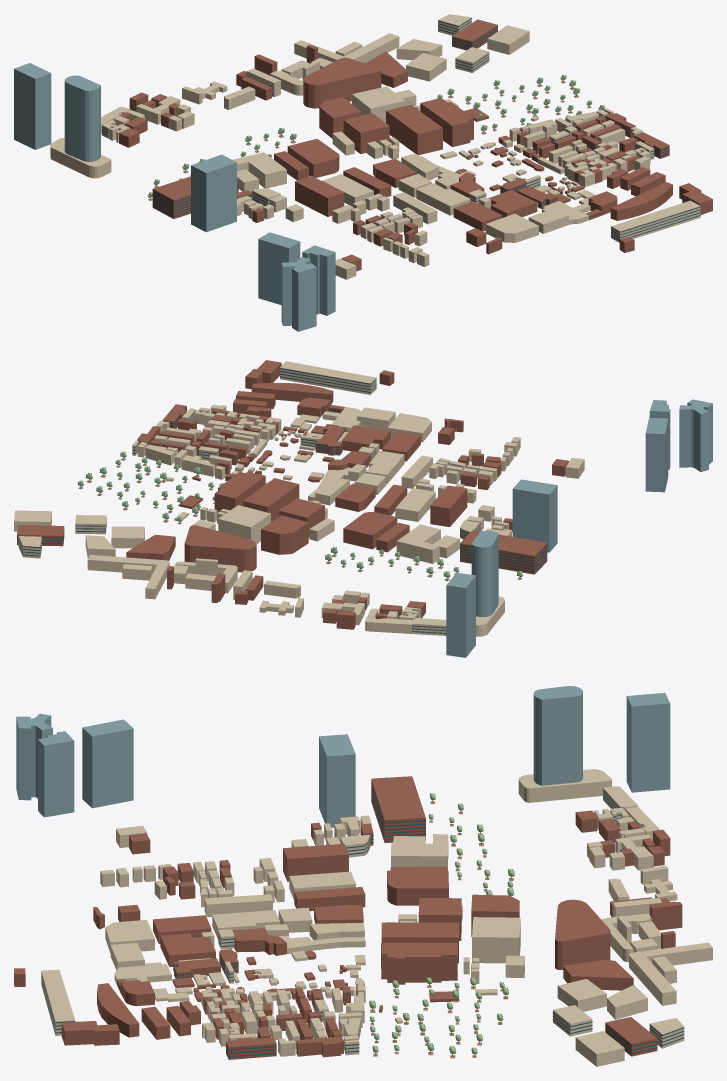
The picture shows the model from 3 angles, top to bottom: view 1: azimuth 30°, elevation 25°; view 2: azimuth 150°, elevation 25°; view 3: azimuth 270°, elevation 25°; orthographic projection. The views are drawn at different scales.
Parts seen in each view (by area): view 1: osm-way-369237839, osm-way-378107220, osm-way-447021394, osm-way-292818816, osm-way-447124026, osm-way-408450724, osm-way-389702034, osm-way-505641175, osm-way-389701788, osm-way-408450806, osm-way-369237987, osm-way-389702097 (+26 smaller); view 2: osm-way-369237839, osm-way-378107220, osm-way-292818816, osm-way-447124026, osm-way-447021394, osm-way-300480894, osm-way-505641175, osm-way-408450724, osm-way-83133885, osm-way-447021392, osm-way-389702034, osm-way-389702097 (+32 smaller); view 3: osm-way-447021394, osm-way-378107220, osm-way-408450724, osm-way-292818816, osm-way-369237839, osm-way-389701788, osm-way-408450806, osm-way-300480894, osm-way-447021392, osm-way-447124026, osm-way-389701925, osm-way-389702097 (+35 smaller).
Boxes of the visible parts, x1,y1,x2,y2 form: osm-way-369237839: [191, 154, 236, 232]; osm-way-378107220: [14, 63, 51, 149]; osm-way-447021394: [64, 75, 100, 161]; osm-way-292818816: [303, 57, 381, 108]; osm-way-447124026: [281, 257, 316, 331]; osm-way-408450724: [258, 232, 300, 304]; osm-way-389702034: [386, 104, 442, 155]; osm-way-505641175: [611, 200, 700, 242]; osm-way-389701788: [420, 98, 473, 146]; osm-way-408450806: [302, 245, 335, 315]; osm-way-369237987: [295, 175, 344, 216]; osm-way-389702097: [287, 138, 339, 177]; osm-way-369237839: [512, 479, 557, 552]; osm-way-378107220: [446, 572, 475, 657]; osm-way-292818816: [184, 525, 256, 572]; osm-way-447124026: [679, 399, 712, 471]; osm-way-447021394: [471, 530, 498, 616]; osm-way-300480894: [460, 530, 547, 574]; osm-way-505641175: [280, 361, 376, 394]; osm-way-408450724: [645, 417, 668, 492]; osm-way-83133885: [261, 515, 308, 554]; osm-way-447021392: [87, 554, 169, 599]; osm-way-389702034: [243, 478, 299, 522]; osm-way-389702097: [343, 512, 397, 549]; osm-way-447021394: [533, 686, 582, 785]; osm-way-378107220: [626, 692, 670, 792]; osm-way-408450724: [82, 719, 133, 808]; osm-way-292818816: [555, 899, 610, 969]; osm-way-369237839: [319, 734, 355, 827]; osm-way-389701788: [381, 942, 457, 984]; osm-way-408450806: [38, 731, 74, 817]; osm-way-300480894: [371, 776, 425, 842]; osm-way-447021392: [629, 942, 712, 1005]; osm-way-447124026: [16, 713, 52, 800]; osm-way-389701925: [472, 917, 520, 963]; osm-way-389702097: [387, 870, 448, 905].
Size of the model in its own units: 732 by 119 by 751.
